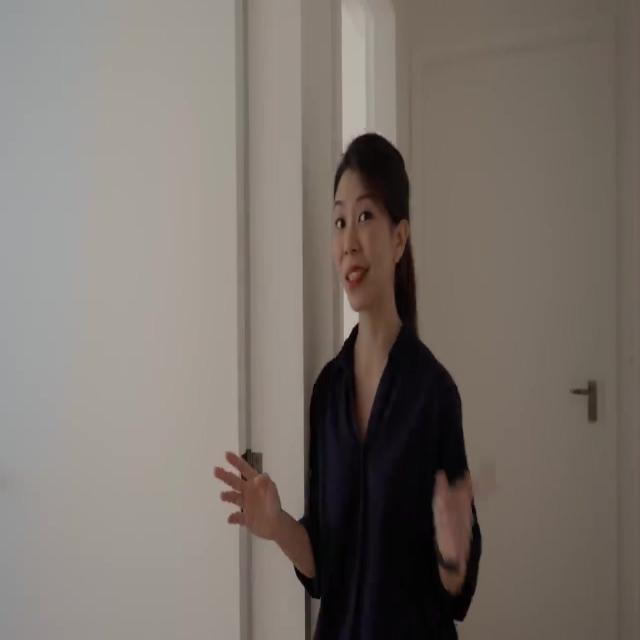door: (420, 48, 616, 638)
person: (214, 131, 482, 638)
